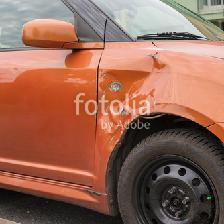dent: (3, 6, 214, 189)
